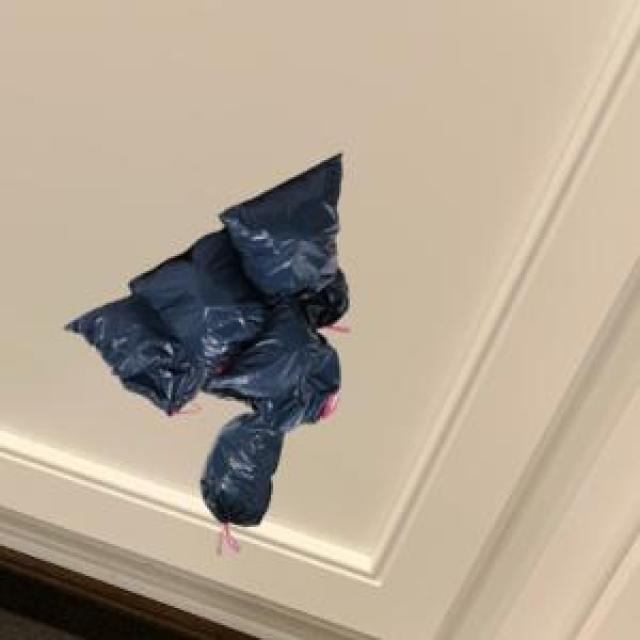waste: (68, 155, 349, 524)
